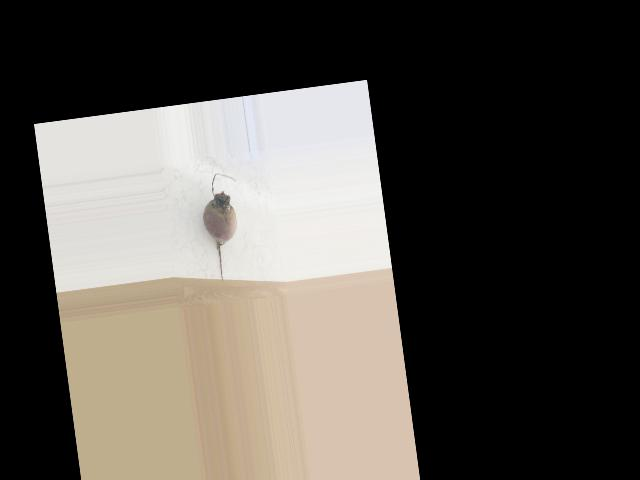beet: (197, 171, 248, 283)
